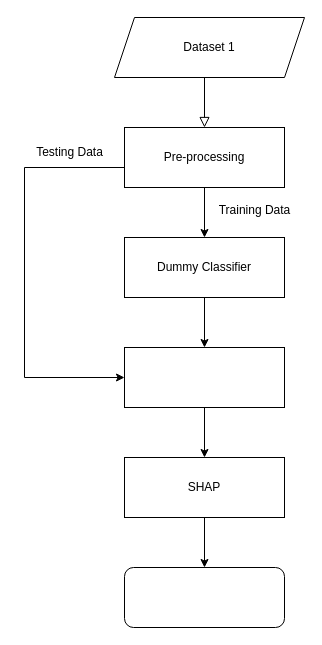
This 322x645 diagram has some shape labels left out. Each missing label, with the centre of its shape:
"Evaluation" belongs at point (204, 597).
"Trained Model" belongs at point (204, 377).
